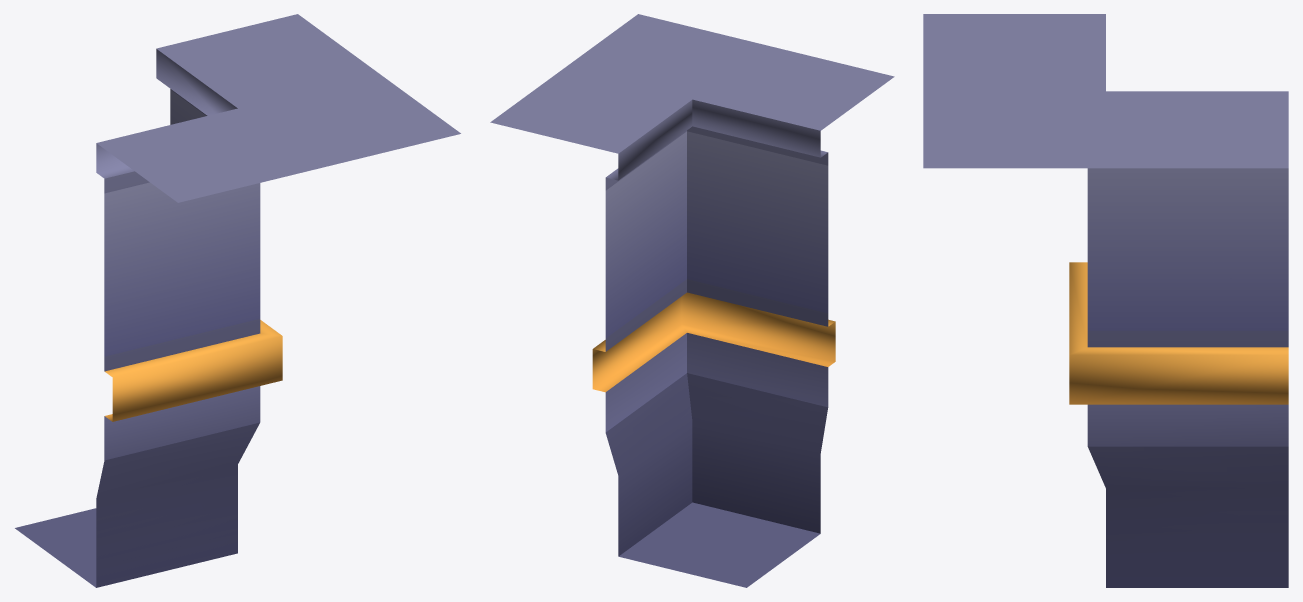
File: structure-corner-inner.glb
The picture shows the model from 3 angles, left to right: view 1: azimuth 30°, elevation 25°; view 2: azimuth 150°, elevation 25°; view 3: azimuth 270°, elevation 25°; orthographic projection. The views are drawn at different scales.
Parts seen in each view (by area): view 1: structure-corner-inner; view 2: structure-corner-inner; view 3: structure-corner-inner.
Part boxes in pixels (left/top/right/bottom): structure-corner-inner: left=15, top=14, right=460, bottom=587; structure-corner-inner: left=490, top=14, right=894, bottom=587; structure-corner-inner: left=923, top=14, right=1288, bottom=587.
Bounding box in the file's own units: 2 × 3 × 2.
